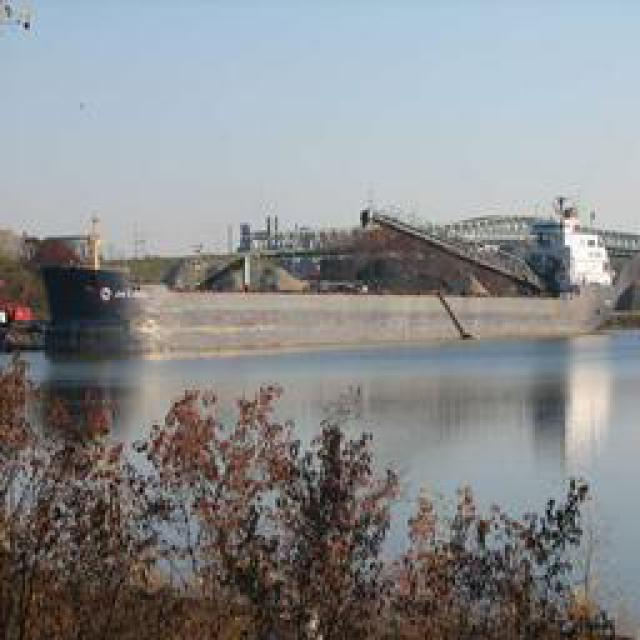Ship: (34, 223, 616, 358)
